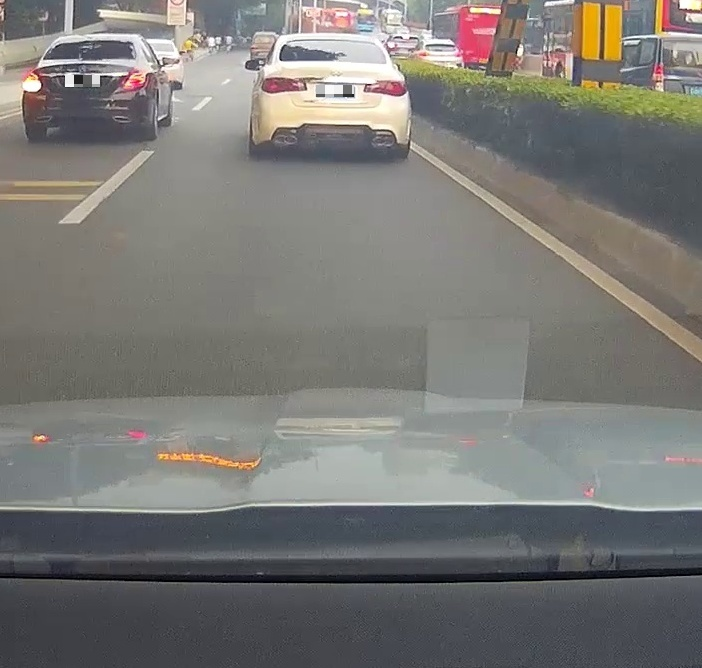L_light: (260, 76, 307, 94), (22, 70, 43, 93)
R_light: (364, 79, 407, 97), (121, 68, 146, 92)
T_light: (323, 40, 344, 45), (85, 41, 103, 45)
day-left: (21, 34, 150, 141)
day-no: (257, 33, 409, 159)
plate_1: (65, 75, 100, 87)
plate_2: (316, 85, 354, 97)
